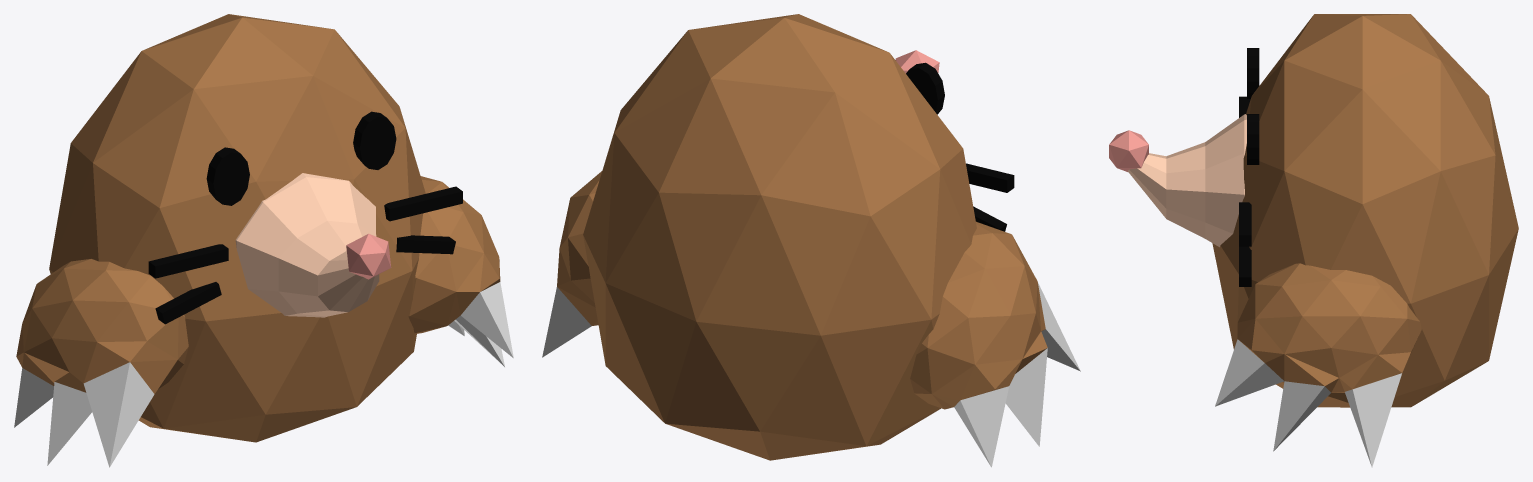
File: Mole_OG.fbx
The picture shows the model from 3 angles, left to right: view 1: azimuth 30°, elevation 25°; view 2: azimuth 150°, elevation 25°; view 3: azimuth 270°, elevation 25°; orthographic projection. The views are drawn at different scales.
Visible parts, largest first — view 1: Body, LeftHand, Nose, RightHand, Cubo.008, eye01.006, eye01.007, NoseTip; view 2: Body, LeftHand, RightHand, Cubo.008, eye01.006; view 3: Body, RightHand, Nose, Cubo.008, NoseTip, eye01.007, eye01.006.
Part boxes in pixels (x1,y1,x2,y2): Body: (49,14,425,442); LeftHand: (14,259,188,467); Nose: (235,173,379,317); RightHand: (408,176,513,366); Cubo.008: (148,186,462,324); eye01.006: (206,147,249,205); eye01.007: (353,111,396,169); NoseTip: (346,233,391,279); Body: (583,14,976,460); LeftHand: (910,221,1080,467); RightHand: (542,171,601,357); Cubo.008: (966,163,1014,231); eye01.006: (906,62,944,114); Body: (1212,14,1518,407); RightHand: (1215,263,1421,467); Nose: (1128,114,1246,247); Cubo.008: (1239,96,1251,286); NoseTip: (1109,130,1148,171); eye01.007: (1247,114,1259,164); eye01.006: (1247,48,1259,98).
Bounding box in the file's own units: 308 × 253 × 262.
